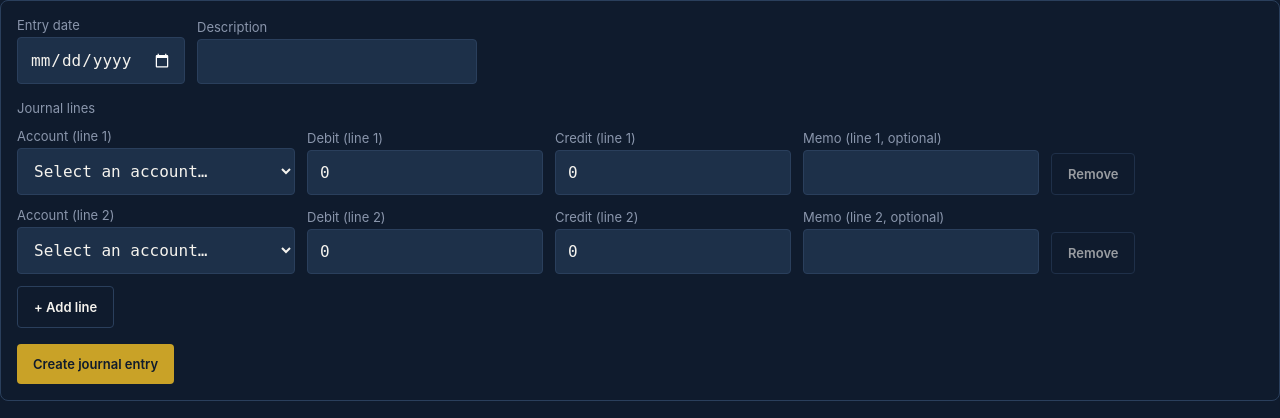
Test case: CreateJournalEntryForm › shows an error message when the action fails
Type "2026-08-01" into the date field labelled "Entry date".
click(101, 60); type("2026-08-01")  # box [17,37,185,84]
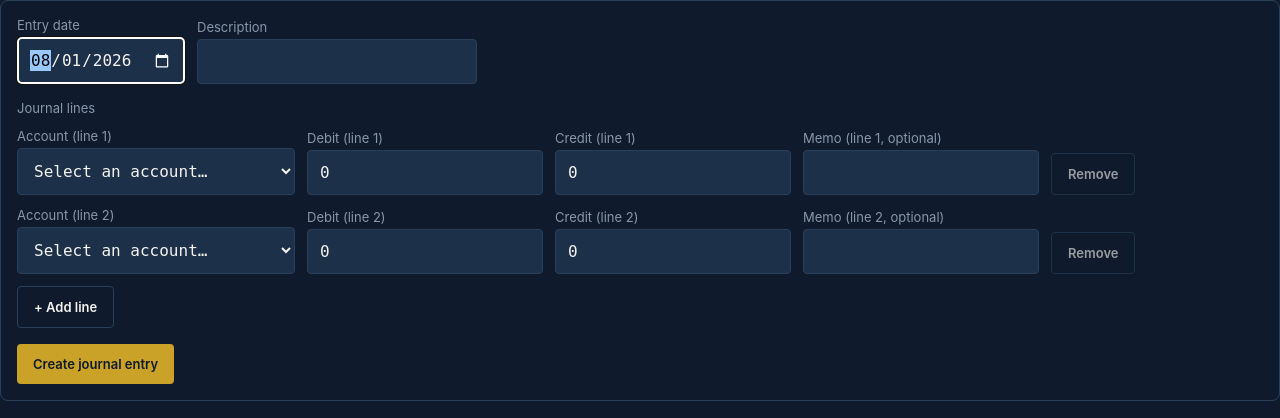
Type "Opening balance" into the field labelled "Description".
click(337, 62); type("Opening balance")  # box [197,39,477,84]
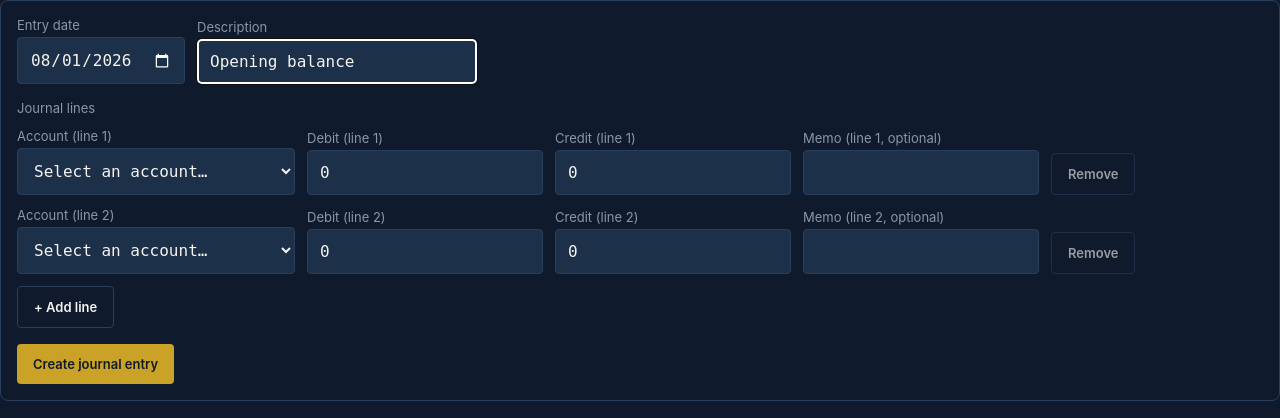
Select "1000-100 — Cash at bank" in the dropdown labelled "Account (line 1)" at point(156, 172), box [17,148,295,195]
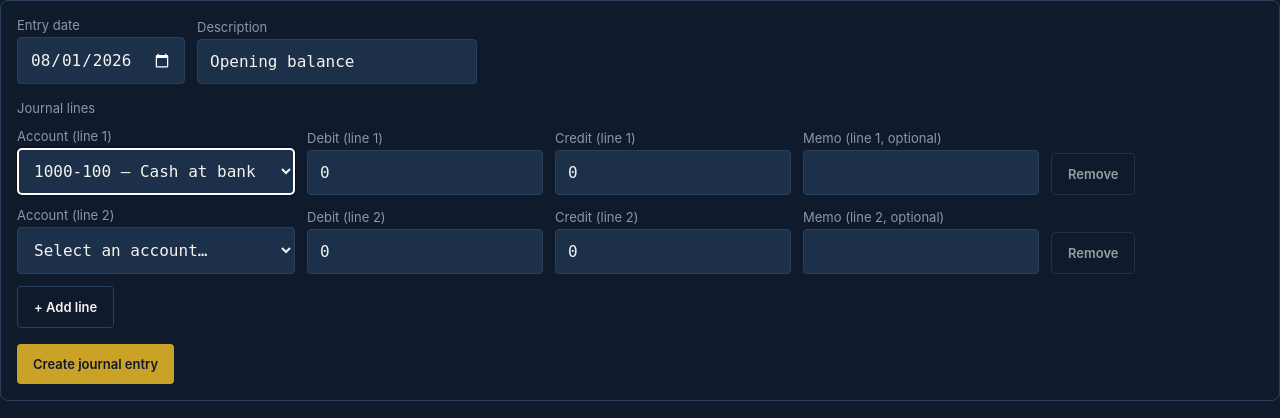
Select "4000-100 — Sales revenue" in the dropdown labelled "Account (line 2)" at point(156, 250), box [17,227,295,274]
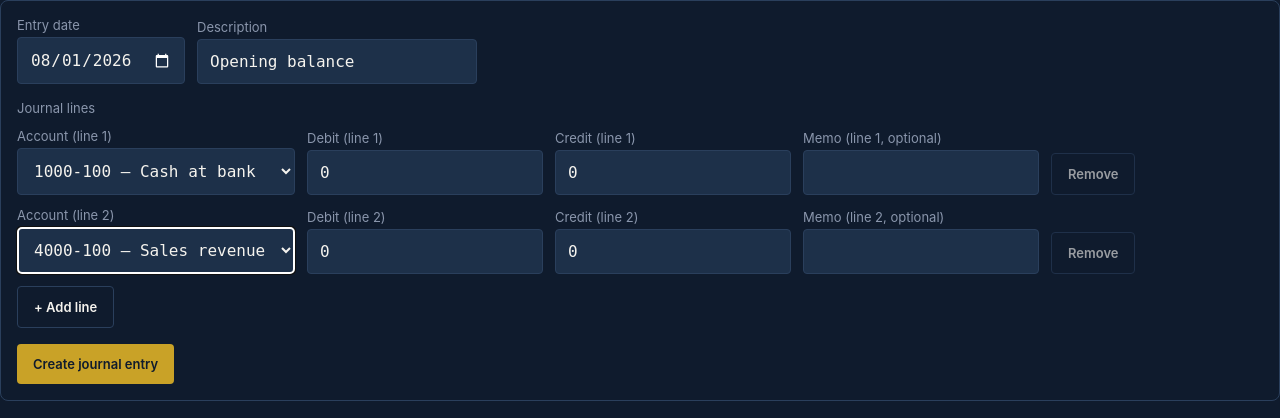
Click the button "Create journal entry".
click(96, 364)  # box [17,344,174,384]
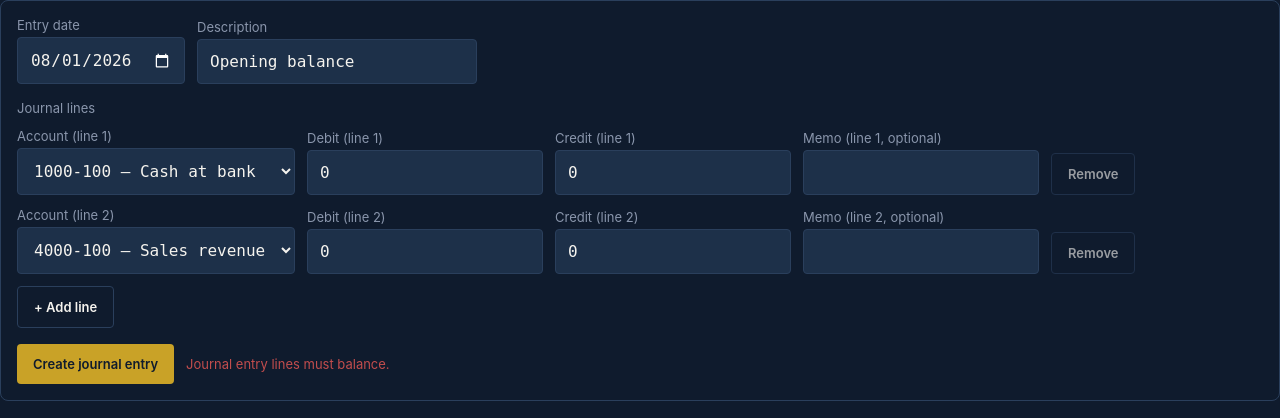
Expected: the text "Journal entry lines must balance." is shown, [186,356,390,372]
